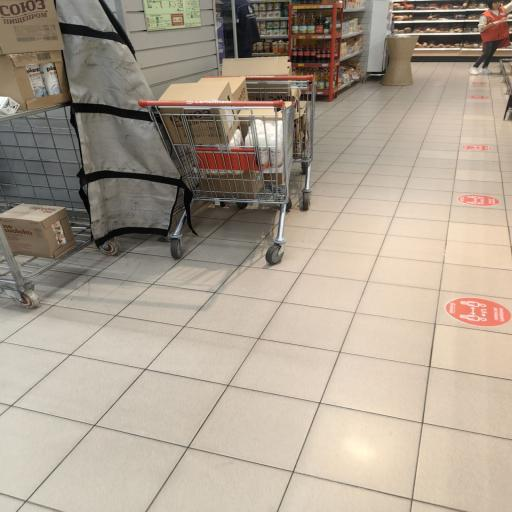shopping_cart: (138, 98, 297, 264), (204, 74, 315, 210)
